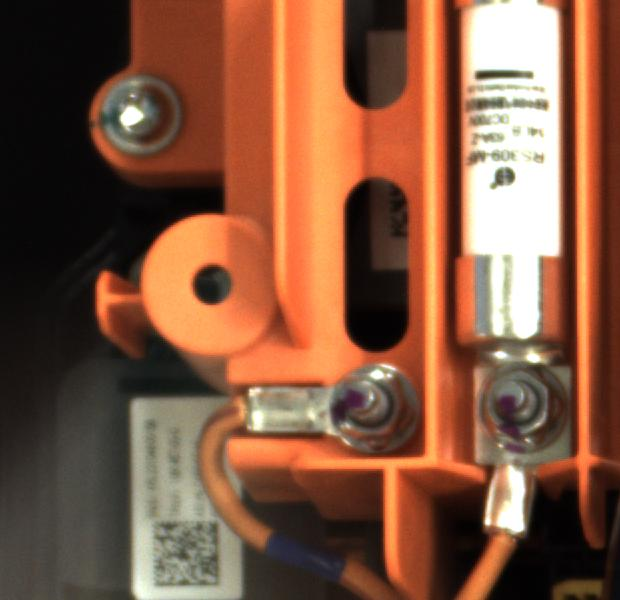screw_m: (89, 70, 192, 162)
screw_s: (314, 357, 414, 446), (477, 363, 573, 451)
